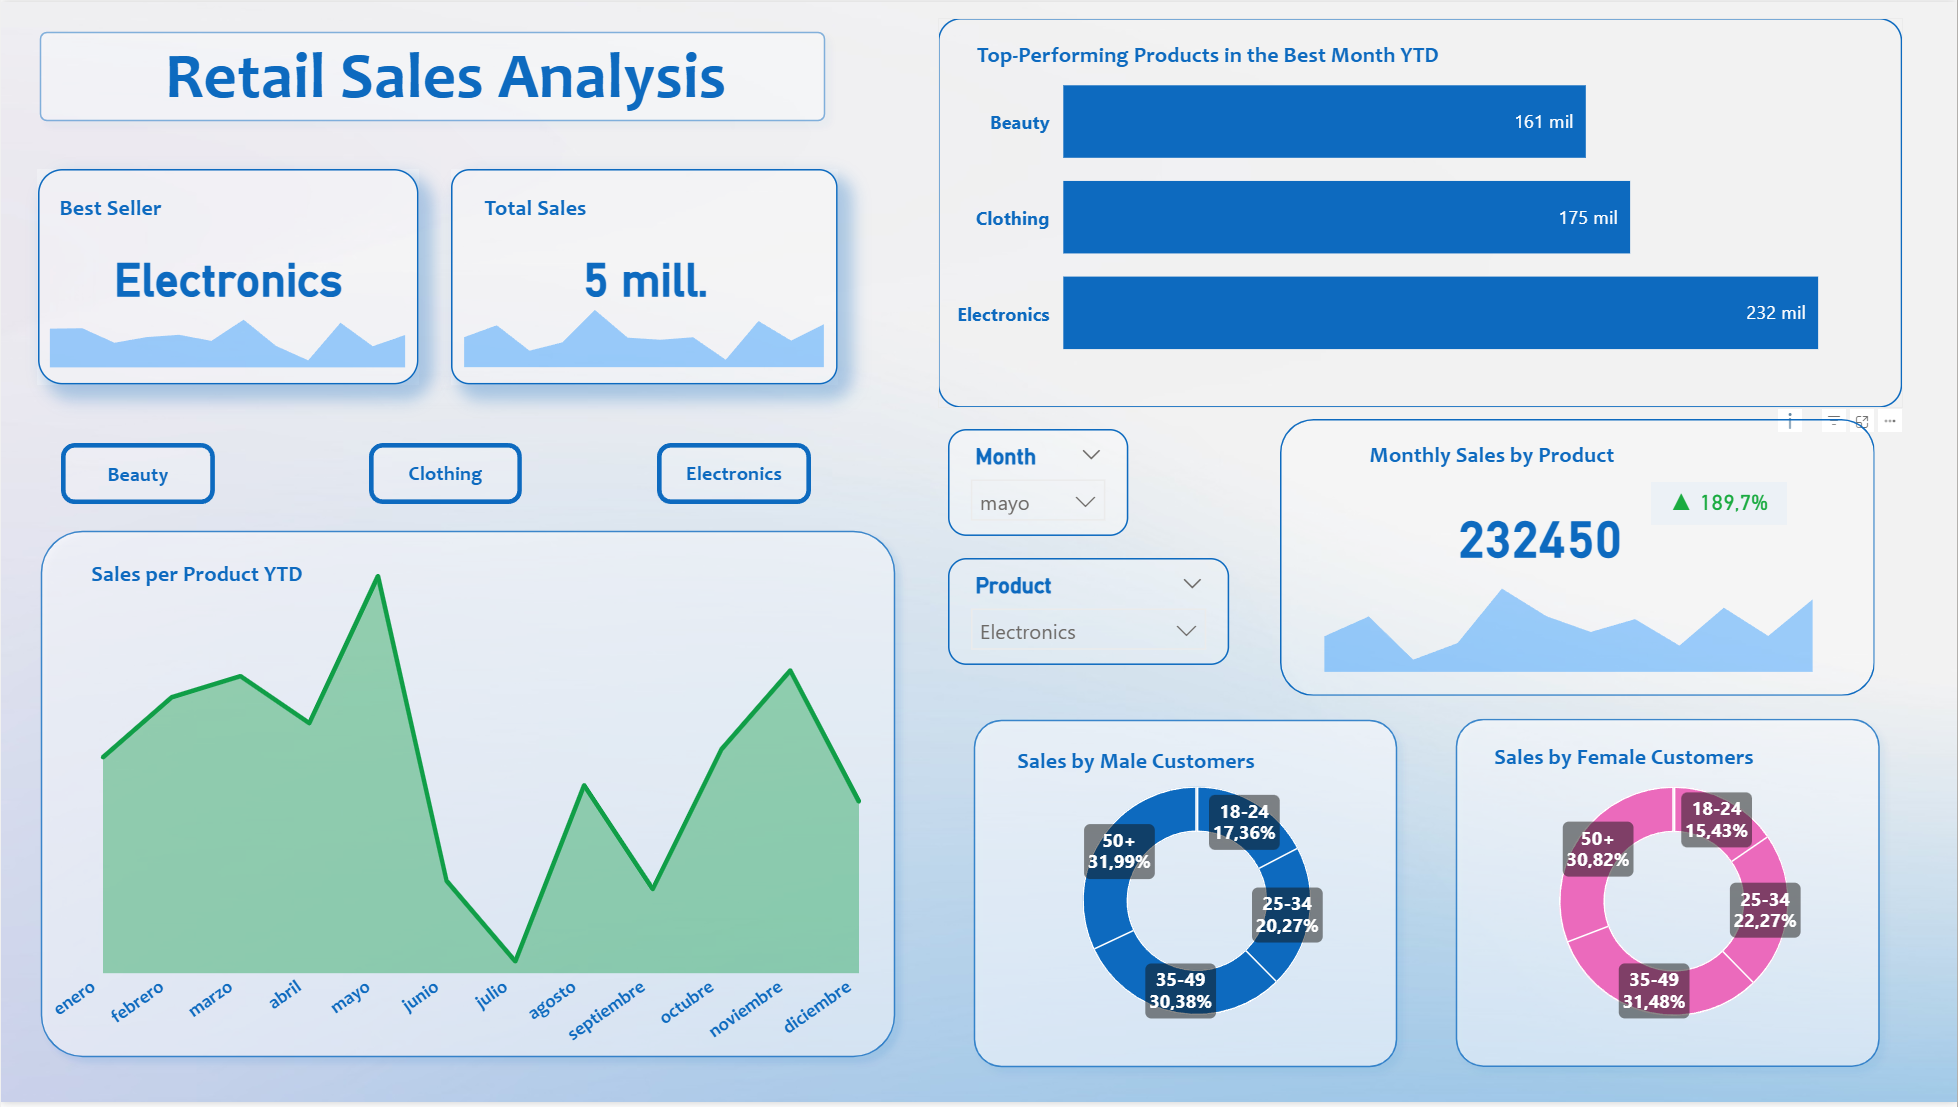

What the dashboard file says about the page in this screenshot:
{"tool":"powerbi","page":{"name":"Página 1","canvas":[1280,720],"ordinal":0},"visuals":[{"type":"shape","box":[17,337,577.2,362.5],"z":0},{"type":"areaChart","fields":{"Category":["sales_by_month_category.Month.Variación.Jerarquía de fechas.Mes"],"Series":["sales_by_month_category.ProductCategory"],"Y":["Sum(sales_by_month_category.TotalAmount)"]},"box":[26.8,346.8,557.5,352.7],"z":1000},{"type":"shape","box":[942.7,460,295.5,245.8],"z":1000,"group":"g3"},{"type":"shape","box":[627.6,460.7,295.1,245.4],"z":2000},{"type":"shape","box":[16.4,10.5,532,76.6],"z":3000},{"type":"textbox","box":[30.8,359.9,195,34],"z":4000},{"type":"donutChart","fields":{"Category":["age_gender_sales.Gender"],"Y":["Sum(age_gender_sales.TotalSales)"],"Series":["age_gender_sales.AgeGroup"]},"box":[942.7,481.2,303.4,214.9],"z":4000,"group":"g3"},{"type":"card","title":"Most selled product","fields":{"Values":["Max(ranking_products.ProductCategory)"]},"box":[24.3,109.3,249.3,141.3],"z":5000,"group":"g2"},{"type":"textbox","box":[965.8,479.6,192.4,28.1],"z":5000,"group":"g3"},{"type":"donutChart","fields":{"Category":["age_gender_sales.Gender"],"Y":["Sum(age_gender_sales.TotalSales)"],"Series":["age_gender_sales.AgeGroup"]},"box":[630.7,481.2,303.4,214.3],"z":5000},{"type":"barChart","fields":{"Category":["best_month_per_product.ProductCategory"],"Y":["Sum(best_month_per_product.TotalAmount)"]},"box":[613.3,10.7,631.3,255.3],"z":5500},{"type":"textbox","box":[30.8,16.4,520.2,75.9],"z":6000},{"type":"card","fields":{"Values":["Sum(ranking_products.TotalAmount)"]},"box":[294.5,109.3,253.3,141.3],"z":6000,"group":"g1"},{"type":"textbox","box":[648.5,482.3,188.5,28.1],"z":7000},{"type":"group","id":"g1","title":"Grupo 1","box":[294.5,109.3,253.3,141.3],"z":8000},{"type":"group","id":"g2","title":"Grupo 2","box":[23.6,109.3,250,141.3],"z":9000},{"type":"textbox","box":[307.6,120.4,84.4,32.1],"z":10000,"group":"g1"},{"type":"actionButton","box":[39.3,288.7,100.7,40],"z":10000},{"type":"actionButton","box":[240.8,288.6,100.1,39.9],"z":11000},{"type":"stackedAreaChart","fields":{"Category":["sales_by_month_category.Month.Variación.Jerarquía de fechas.Mes"],"Y":["Sum(sales_by_month_category.TotalAmount)"]},"box":[294.5,180,252.6,64.1],"z":12000,"group":"g1"},{"type":"actionButton","box":[429.3,288.6,100.8,39.9],"z":12000},{"type":"group","id":"g3","title":"Grupo 3","box":[942.7,460,303.4,245.8],"z":13000},{"type":"textbox","box":[627.6,20.3,324.6,28.8],"z":13500},{"type":"textbox","box":[29.5,120.4,84.4,28.8],"z":14000,"group":"g2"},{"type":"shape","box":[837,272.9,389.4,181.3],"z":15000},{"type":"slicer","fields":{"Values":["sales_by_month_category.Month"]},"box":[619.7,279.4,117.8,70],"z":16000},{"type":"areaChart","fields":{"Category":["sales_by_month_category.Month.Variación.Jerarquía de fechas.Mes"],"Y":["Sum(sales_by_month_category.TotalAmount)"]},"box":[23.6,183.2,249.3,60.9],"z":17000,"group":"g2"},{"type":"slicer","fields":{"Values":["sales_by_month_category.ProductCategory"]},"box":[619.7,363.8,183.9,70],"z":17000},{"type":"areaChart","fields":{"Category":["sales_by_month_category.Month.Variación.Jerarquía de fechas.Mes"],"Y":["Sum(sales_by_month_category.TotalAmount)"]},"box":[849.4,354,352.7,90.3],"z":18000},{"type":"card","fields":{"Values":["Sum(sales_by_month_category.TotalAmount)"]},"box":[929.2,313.5,155.7,72],"z":19000},{"type":"card","fields":{"Values":["sales_by_month_category.Crecimiento con Flecha"]},"box":[1079.8,314.1,89,28.1],"z":20000},{"type":"textbox","box":[878.2,282,195,32.1],"z":21000}]}

Visuals, with their boxes in screenshot pixels (x1, y1, x2, y2), scaled from the page's 1280x720 canvas onto the 1958x1107 screenshot:
shape: 26/518/909/1075
areaChart - sales_by_month_category.Month.Variación.Jerarquía de fechas.Mes x sales_by_month_category.ProductCategory: 41/533/894/1075
shape: 1442/707/1894/1085
shape: 960/708/1411/1086
shape: 25/16/839/134
textbox: 47/553/345/606
donutChart - age_gender_sales.Gender x Sum(age_gender_sales.TotalSales): 1442/740/1906/1070
"Most selled product" card: 37/168/419/385
textbox: 1477/737/1772/781
donutChart - age_gender_sales.Gender x Sum(age_gender_sales.TotalSales): 965/740/1429/1069
barChart - best_month_per_product.ProductCategory x Sum(best_month_per_product.TotalAmount): 938/16/1904/409
textbox: 47/25/843/142
card - Sum(ranking_products.TotalAmount): 450/168/838/385
textbox: 992/742/1280/785
"Grupo 1" group: 450/168/838/385
"Grupo 2" group: 36/168/419/385
textbox: 471/185/600/234
actionButton: 60/444/214/505
actionButton: 368/444/521/505
stackedAreaChart - sales_by_month_category.Month.Variación.Jerarquía de fechas.Mes x Sum(sales_by_month_category.TotalAmount): 450/277/837/375
actionButton: 657/444/811/505
"Grupo 3" group: 1442/707/1906/1085
textbox: 960/31/1457/75
textbox: 45/185/174/229
shape: 1280/420/1876/698
slicer - sales_by_month_category.Month: 948/430/1128/537
areaChart - sales_by_month_category.Month.Variación.Jerarquía de fechas.Mes x Sum(sales_by_month_category.TotalAmount): 36/282/417/375
slicer - sales_by_month_category.ProductCategory: 948/559/1229/667
areaChart - sales_by_month_category.Month.Variación.Jerarquía de fechas.Mes x Sum(sales_by_month_category.TotalAmount): 1299/544/1839/683
card - Sum(sales_by_month_category.TotalAmount): 1421/482/1660/593
card - sales_by_month_category.Crecimiento con Flecha: 1652/483/1788/526
textbox: 1343/434/1642/483
